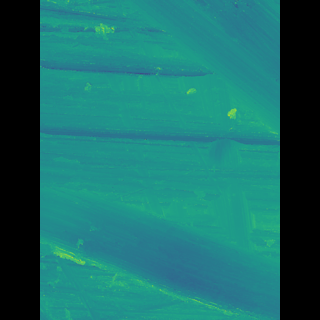Loch: (70, 183, 249, 320), (137, 0, 250, 135)
